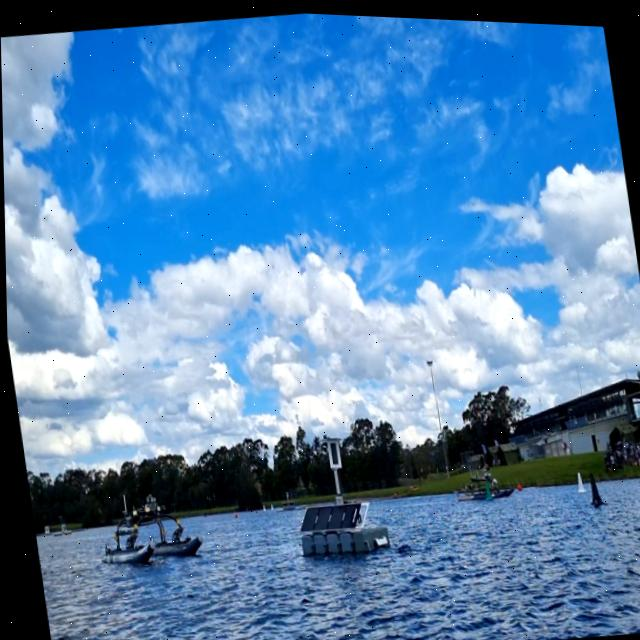led: (325, 438, 338, 464)
